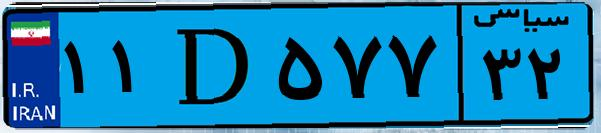1: (57, 26, 110, 100), (110, 28, 158, 98)
2: (525, 38, 570, 115)
3: (475, 38, 525, 113)
5: (270, 28, 330, 110)
7: (385, 28, 445, 110), (330, 28, 385, 110)
D: (158, 12, 270, 120)
